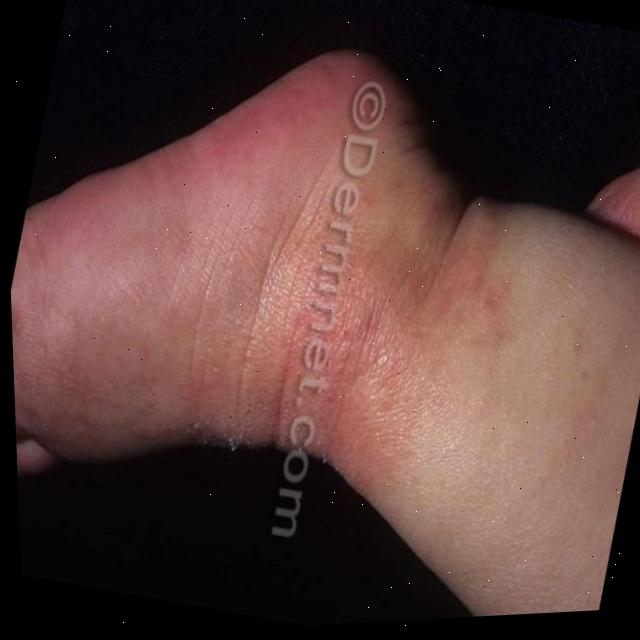Eczema: (133, 221, 444, 508)
